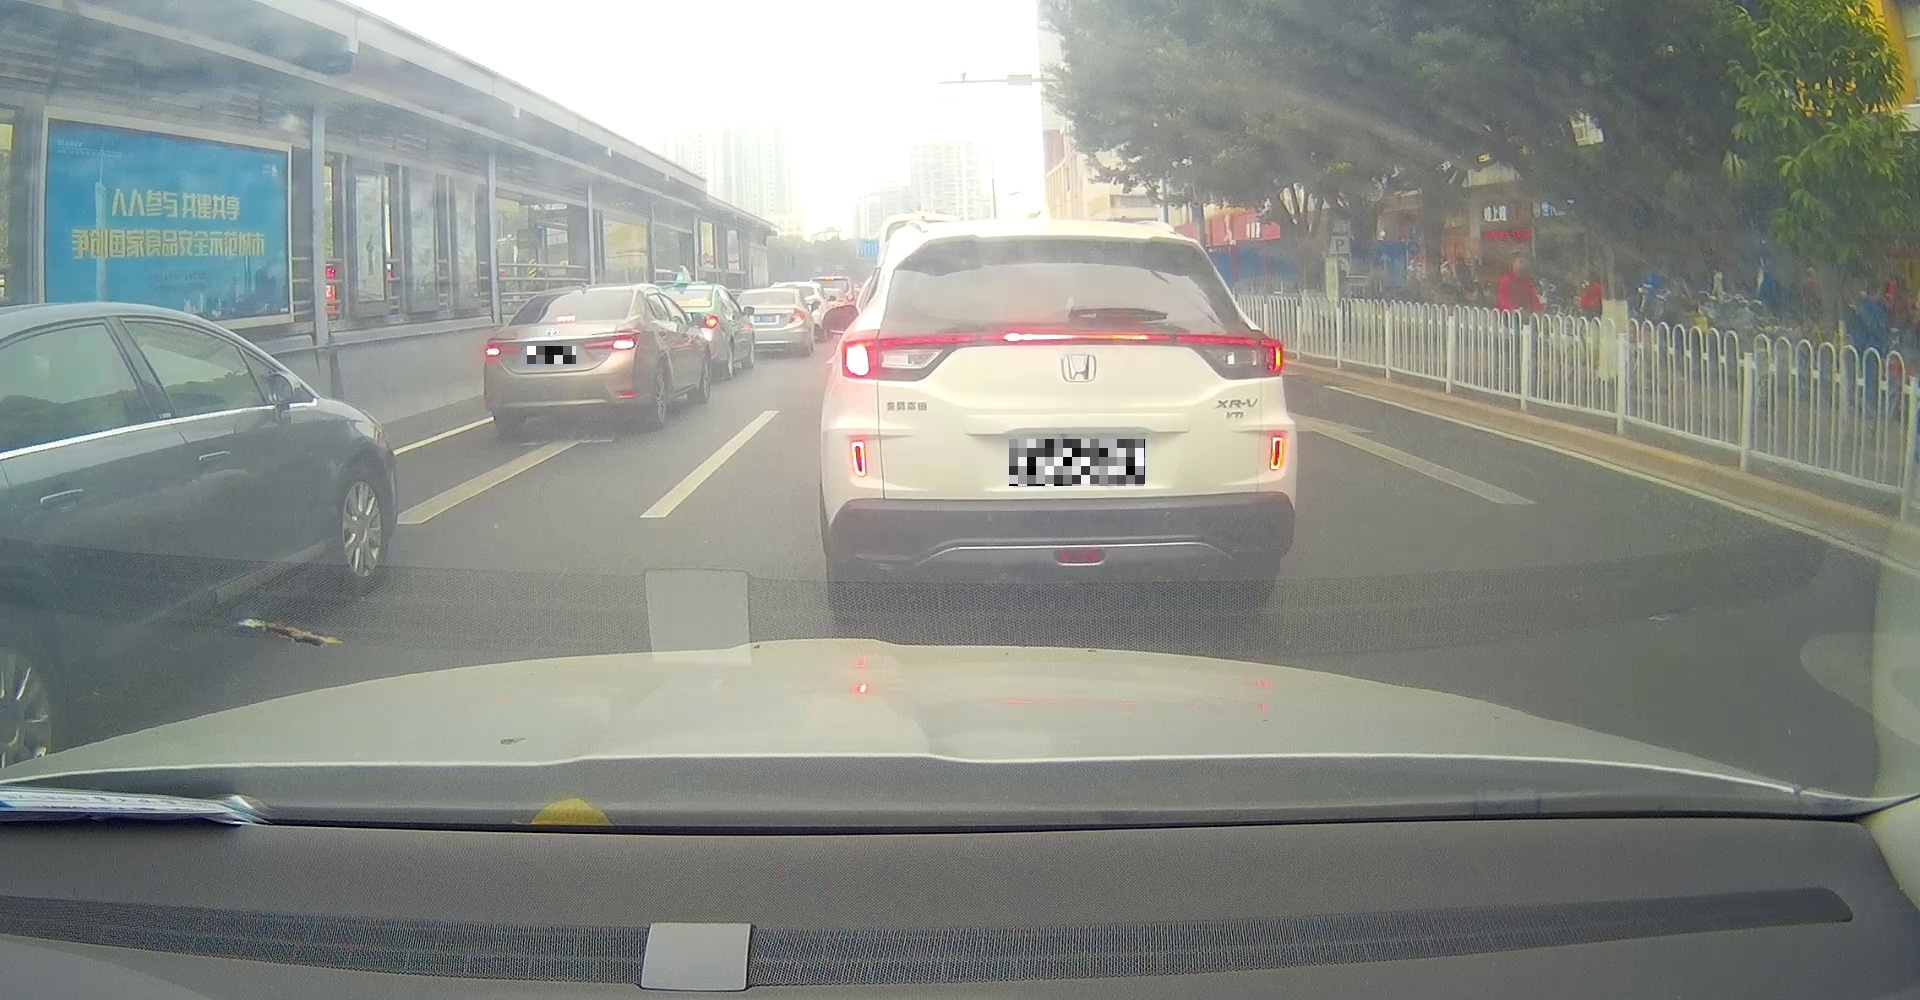L_light: (839, 331, 974, 385), (486, 338, 522, 359)
R_light: (1175, 330, 1285, 379), (585, 329, 640, 352)
T_light: (980, 332, 1170, 341), (555, 315, 577, 322)
day-brake: (817, 214, 1299, 610), (483, 282, 648, 437)
plate_1: (527, 346, 577, 364)
plate_2: (1010, 439, 1145, 486)
